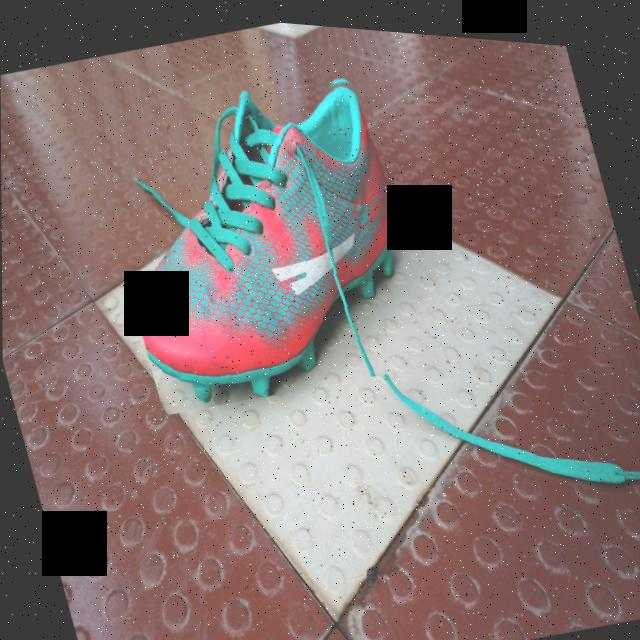shoe: (85, 44, 442, 430)
